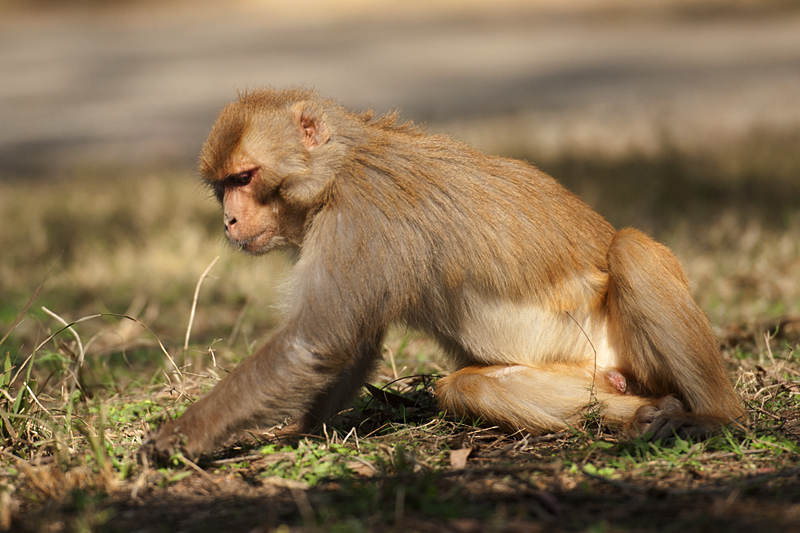monkey: (145, 84, 765, 458)
